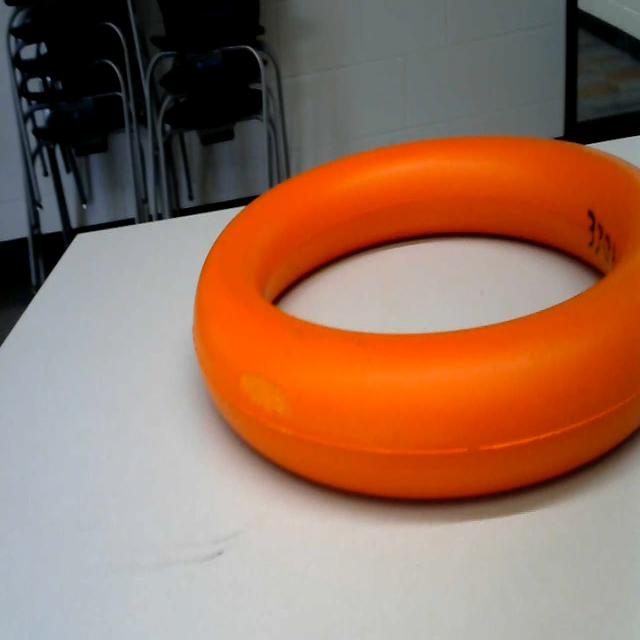note: (171, 108, 640, 528)
